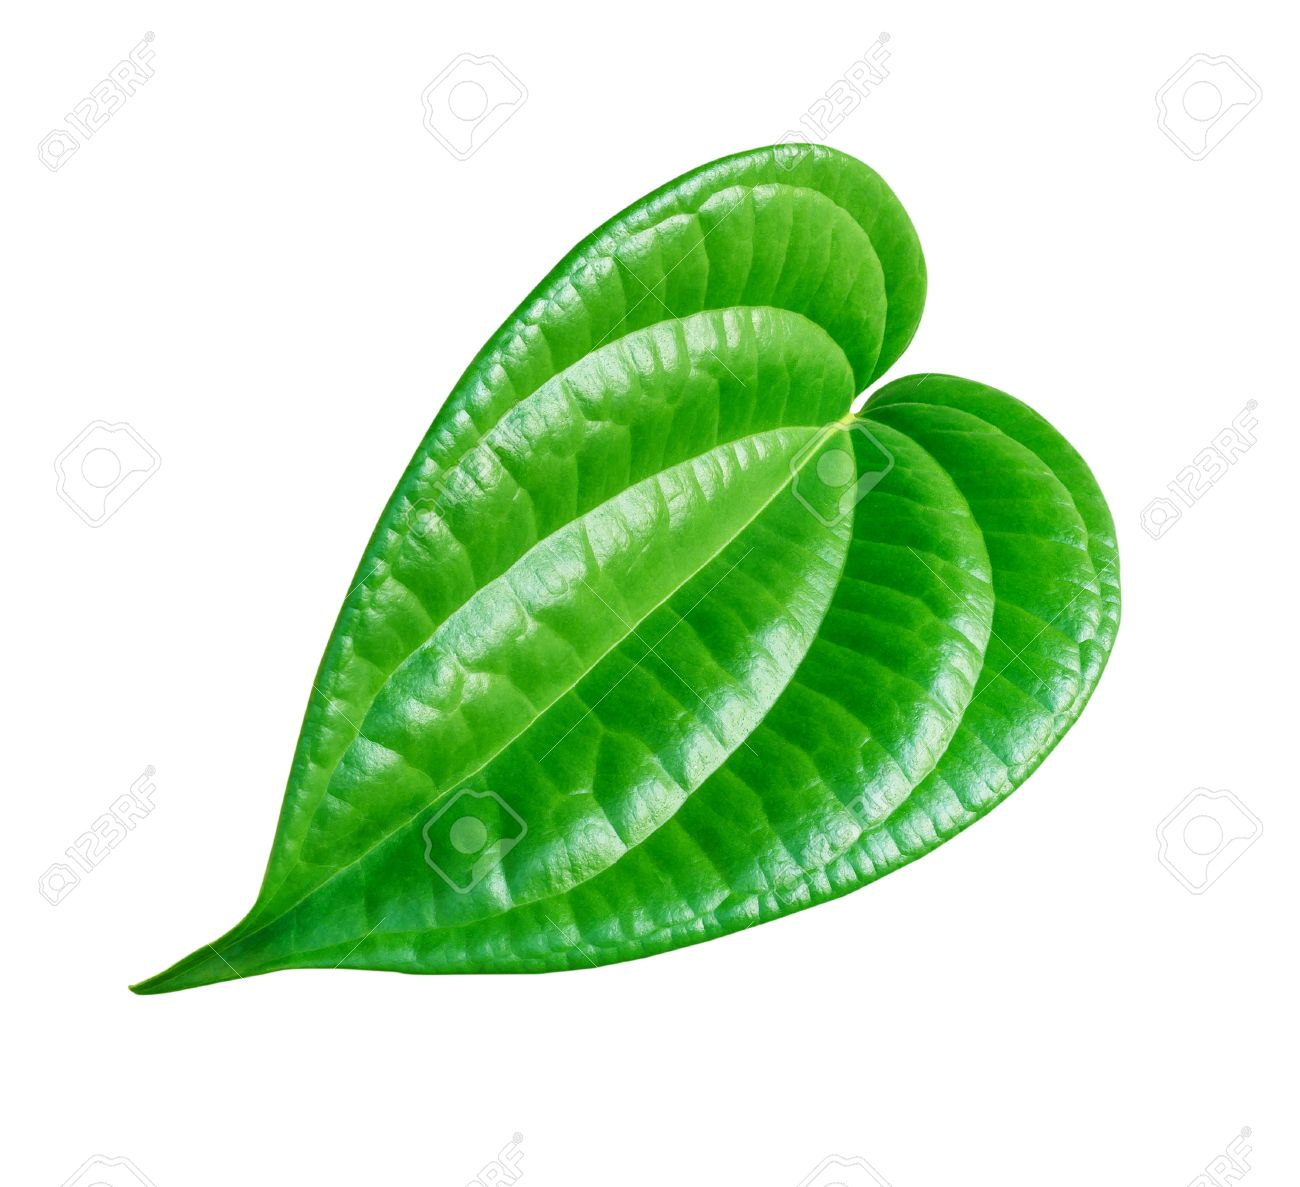healthy: (186, 125, 1195, 1105)
